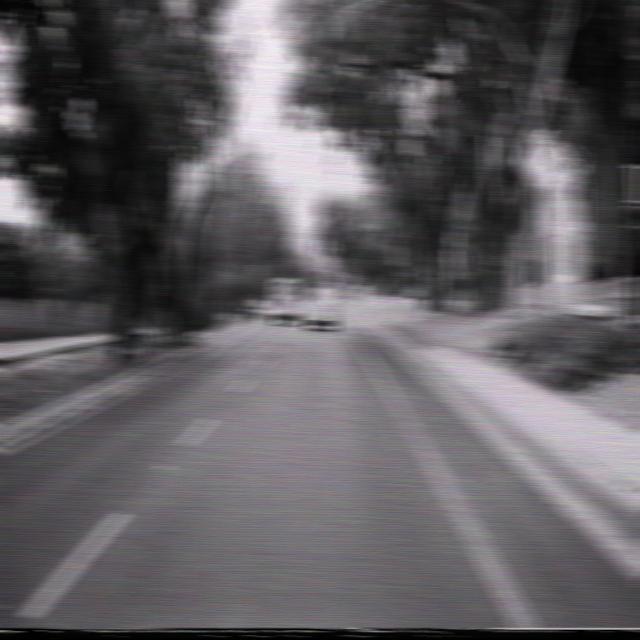pedestrianCrossing: (514, 122, 555, 192)
